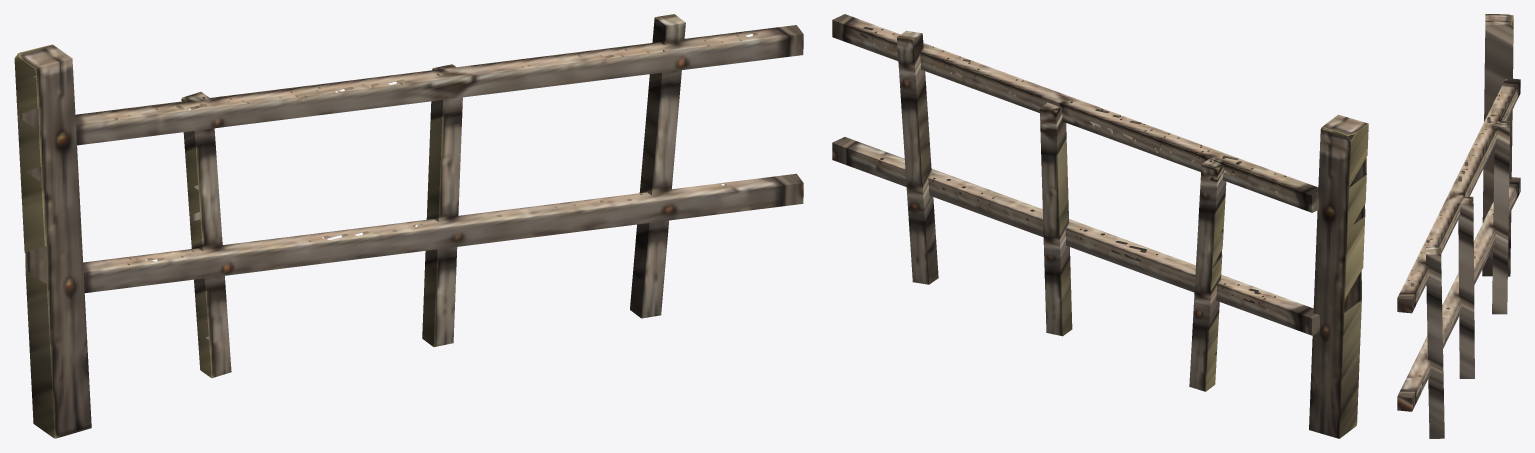
Rendered from fence_04.glb.
3 views of the same model, side by side, from view 1: azimuth 30°, elevation 25°; view 2: azimuth 150°, elevation 25°; view 3: azimuth 270°, elevation 25° (orthographic). The views are drawn at different scales.
Parts seen in each view (by area): view 1: fence_04_game; view 2: fence_04_game; view 3: fence_04_game.
Boxes of the visible parts, <box> form: fence_04_game: <box>14,14,803,438</box>; fence_04_game: <box>832,14,1368,438</box>; fence_04_game: <box>1397,14,1520,438</box>.
Bounding box in the file's own units: 2.48 × 1.26 × 0.5686.
Materials: 1 (1 with a texture image).
